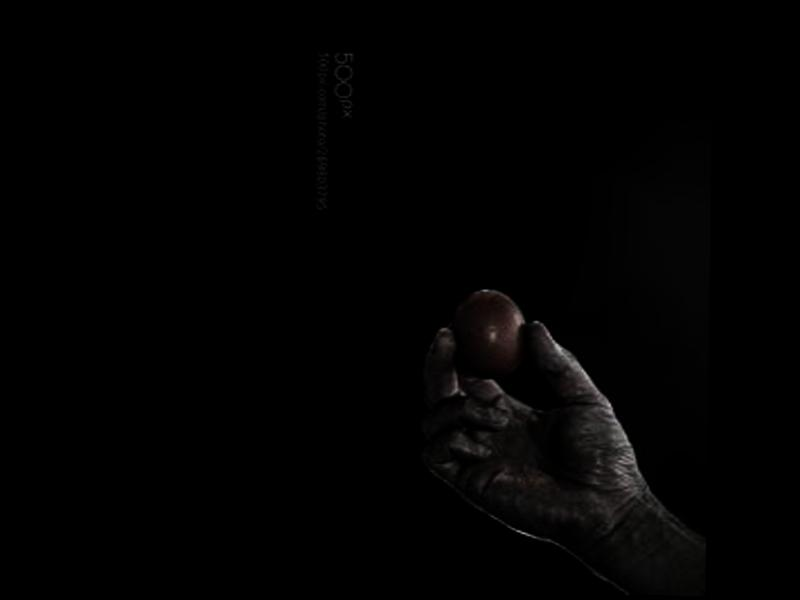Eggs: (452, 289, 529, 381)
